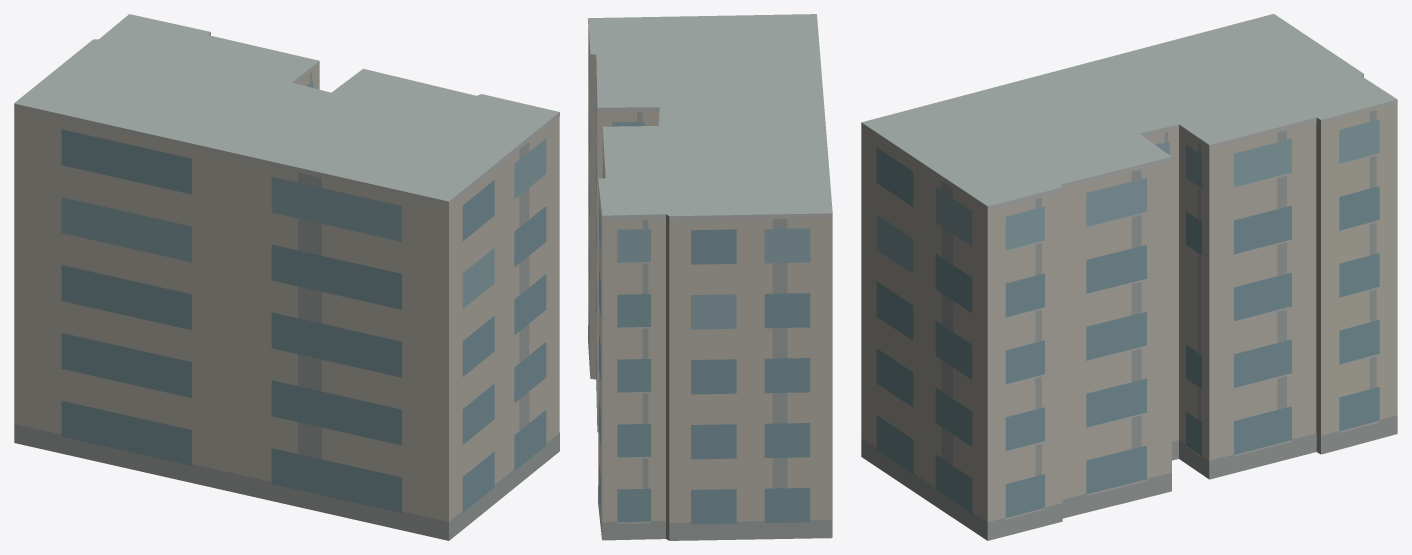
Rendered from survey-upis-32982939.glb.
3 renders of one model, left to right at view 1: azimuth 30°, elevation 25°; view 2: azimuth 150°, elevation 25°; view 3: azimuth 270°, elevation 25°, orthographic. The views are drawn at different scales.
Visible parts, largest first — view 1: survey-upis-32982939.tmp; view 2: survey-upis-32982939.tmp; view 3: survey-upis-32982939.tmp.
Part boxes in pixels (box(x1,y1,x2,y2)): survey-upis-32982939.tmp: box(14, 14, 559, 540); survey-upis-32982939.tmp: box(588, 14, 832, 540); survey-upis-32982939.tmp: box(861, 14, 1397, 540).
Size of the model in its own units: 20.43 by 16.55 by 24.06.
